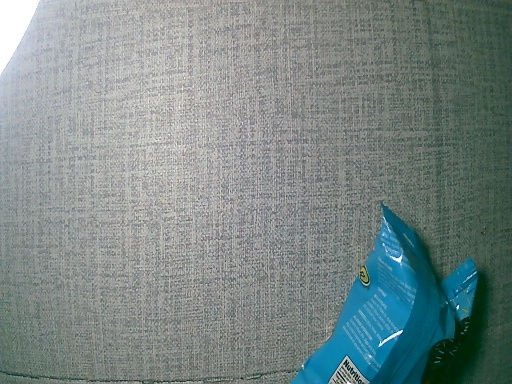plastic: (292, 206, 482, 384)
